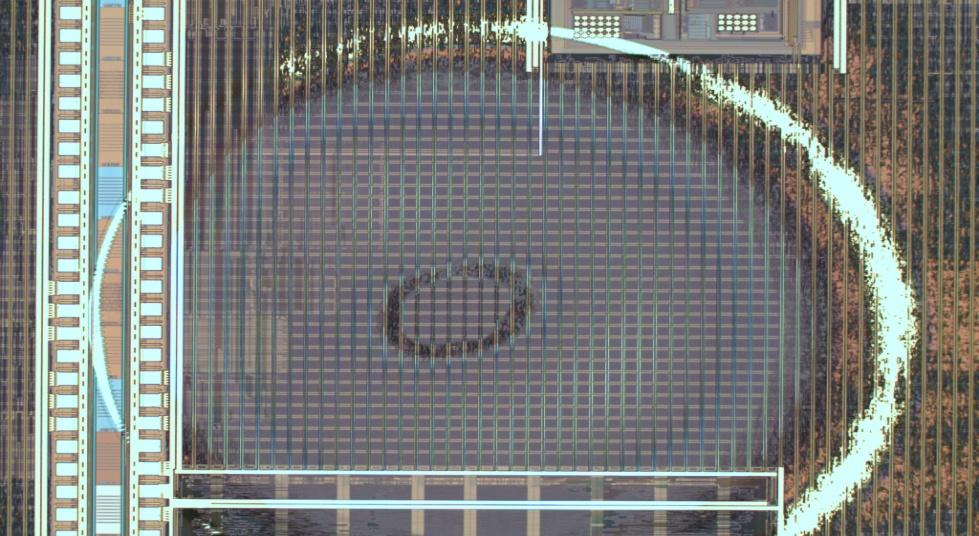BLOCK ETCH: (81, 1, 979, 536)
